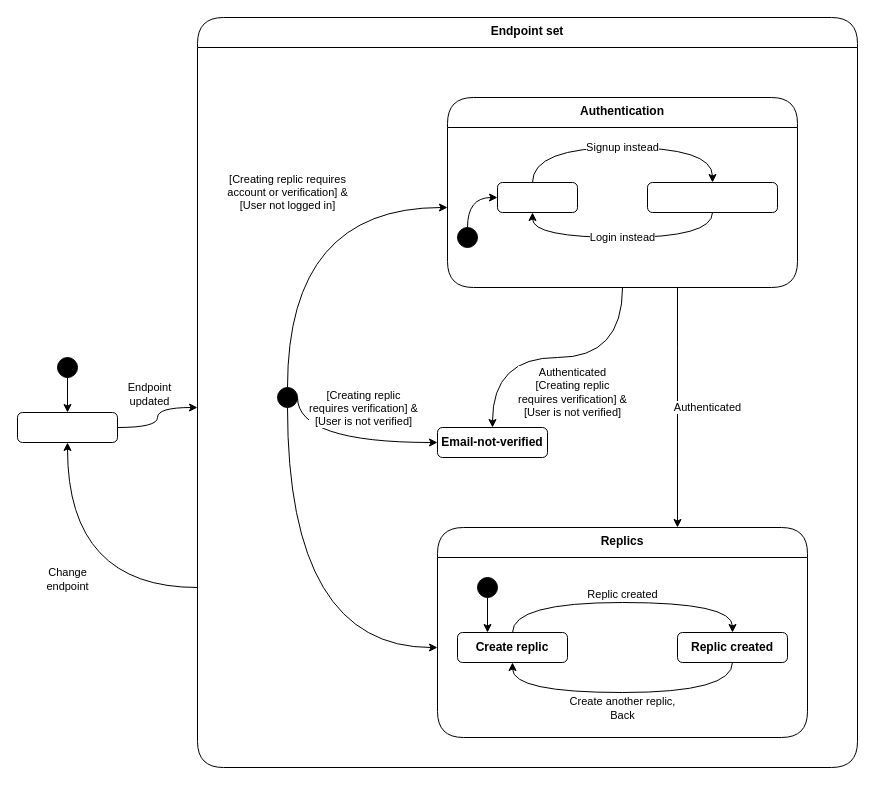
The diagram is 875 pixels wide and 785 high, and some of its shapes have lost their labels. Each missing label, with the centre of its shape:
"Login" goes at (x=537, y=197).
"Set endpoint" goes at (x=67, y=427).
"Signup" goes at (x=712, y=197).
